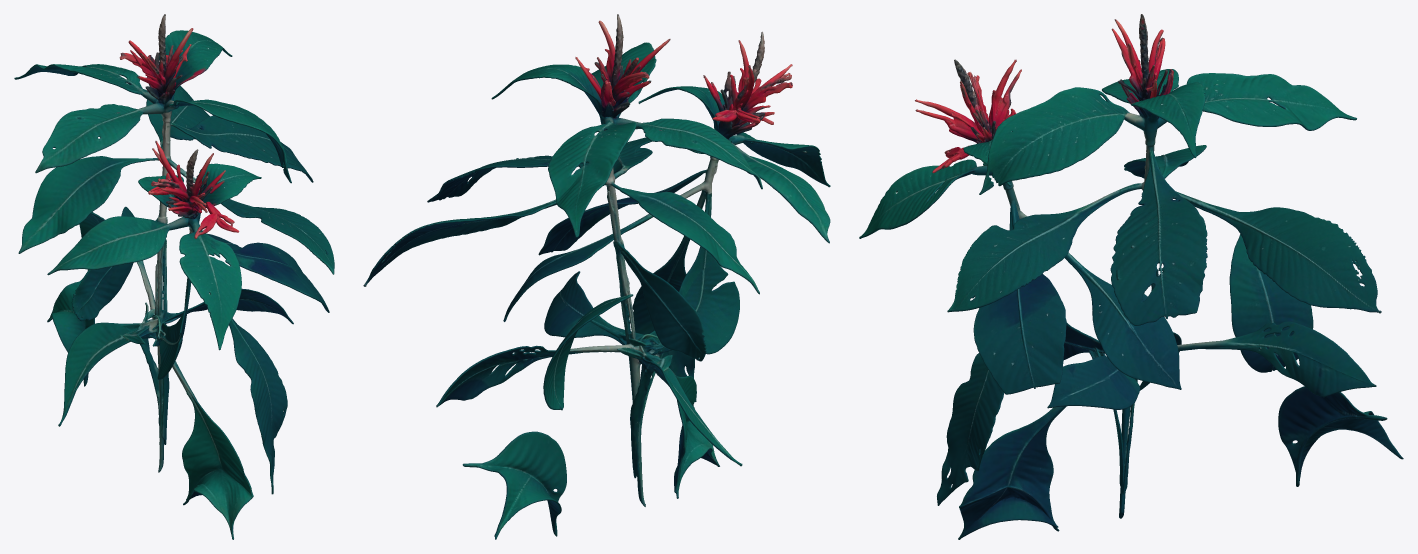
Rendered from Aphelandra+pulcherrima.fbx.
3 views of the same model, side by side, from view 1: azimuth 30°, elevation 25°; view 2: azimuth 150°, elevation 25°; view 3: azimuth 270°, elevation 25° (orthographic). The views are drawn at different scales.
Parts seen in each view (by area): view 1: tripo_node_919169da; view 2: tripo_node_919169da; view 3: tripo_node_919169da.
Boxes of the visible parts, x1=… form: tripo_node_919169da: x1=14, y1=14, x2=334, y2=539; tripo_node_919169da: x1=363, y1=14, x2=830, y2=539; tripo_node_919169da: x1=859, y1=14, x2=1403, y2=539.
Bounding box in the file's own units: 75.45 × 110 × 102.
1 material, 1 textured.
